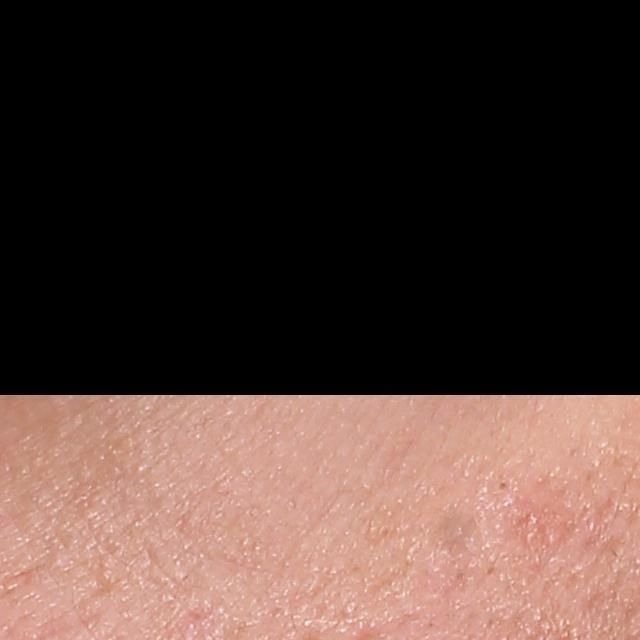comedo: (497, 477, 511, 491)
other: (435, 500, 485, 555)
